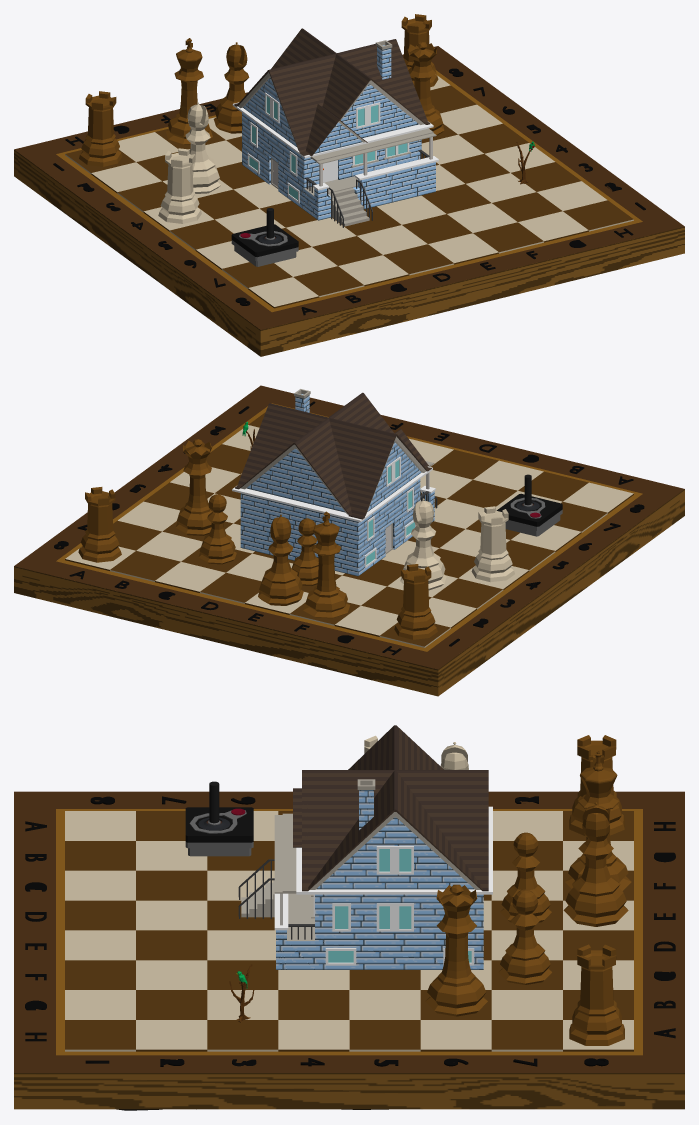
3 renders of one model, top to bottom at view 1: azimuth 30°, elevation 25°; view 2: azimuth 150°, elevation 25°; view 3: azimuth 270°, elevation 25°, orthographic. The views are drawn at different scales.
Parts seen in each view (by area): view 1: Cube.002, Cube.547, OBJRANDOM_JOYSTICK; view 2: Cube.002, Cube.547, OBJRANDOM_JOYSTICK; view 3: Cube.002, Cube.547, OBJRANDOM_JOYSTICK.
Part boxes in pixels (x1,y1,x2,y2): Cube.002: (14,14,684,356); Cube.547: (232,28,438,227); OBJRANDOM_JOYSTICK: (231,208,298,266); Cube.002: (14,385,684,696); Cube.547: (232,389,437,576); OBJRANDOM_JOYSTICK: (496,474,562,536); Cube.002: (14,735,684,1109); Cube.547: (238,725,492,969); OBJRANDOM_JOYSTICK: (185,781,253,856).
Bounding box in the file's own units: 3981 × 1457 × 4012.
Materials: 30 (3 with a texture image).
